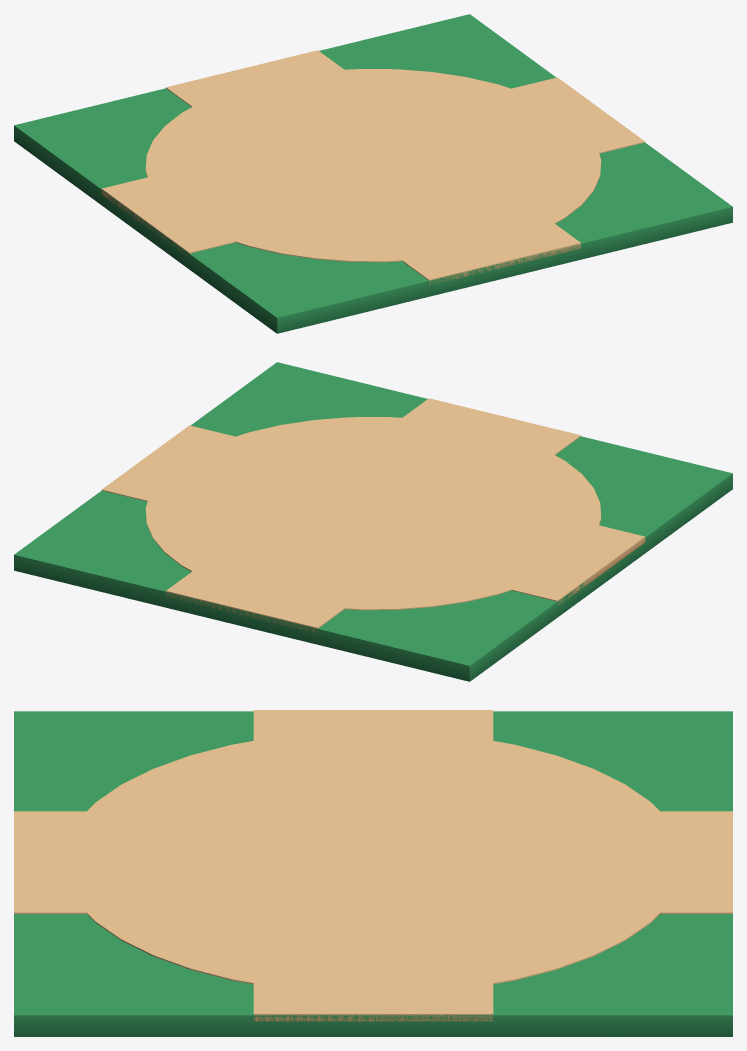
Rendered from plaza_redonda.glb.
3 views of the same model, one above another, from view 1: azimuth 30°, elevation 25°; view 2: azimuth 150°, elevation 25°; view 3: azimuth 270°, elevation 25° (orthographic). The views are drawn at different scales.
Parts seen in each view (by area): view 1: plaza_redonda; view 2: plaza_redonda; view 3: plaza_redonda.
Part boxes in pixels (bbox=[...]): plaza_redonda: bbox=[14, 14, 732, 333]; plaza_redonda: bbox=[14, 362, 732, 681]; plaza_redonda: bbox=[14, 710, 732, 1036].
Bounding box in the file's own units: 6 × 0.212 × 6.
Materials: 1 (1 with a texture image).
